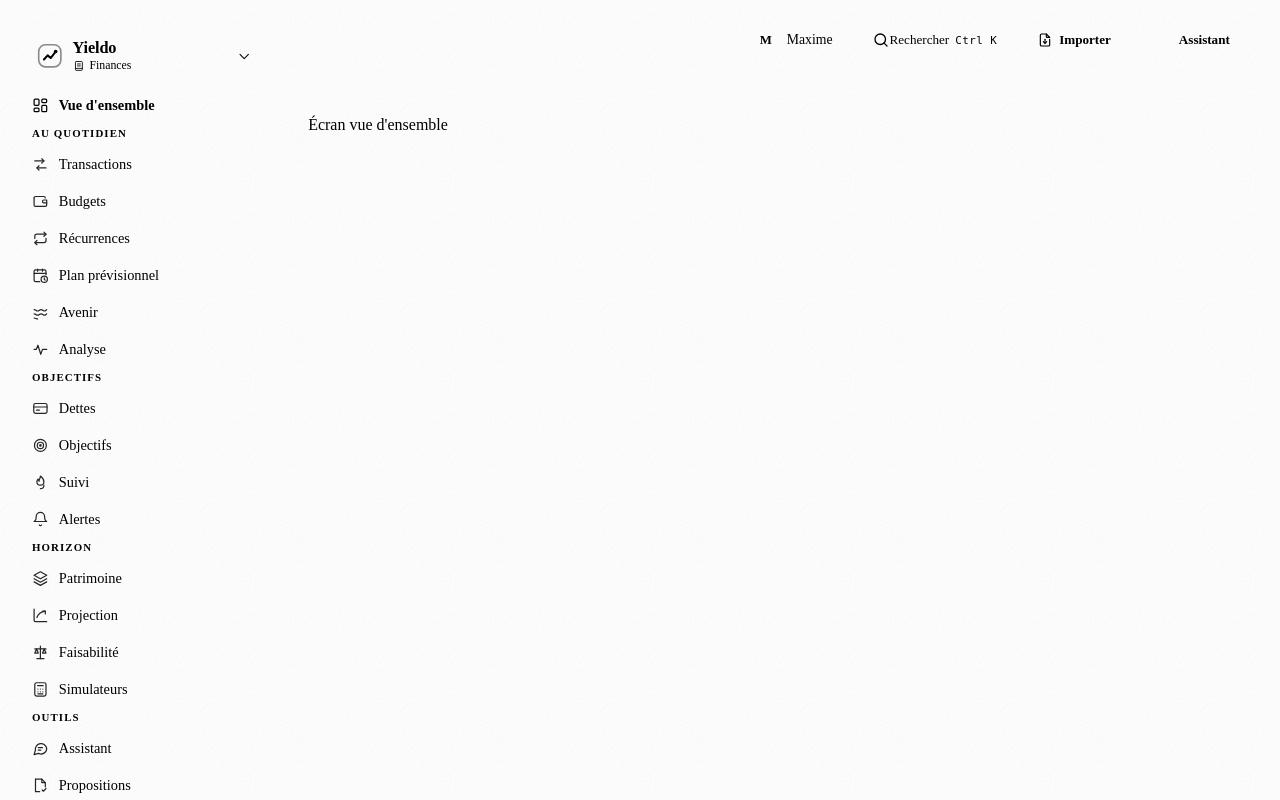
AppShell › routes the Avenir nav entry to the forecast screen
The width and height of the screenshot is (1280, 800).
Click the link "Avenir" at (65, 312), box [32, 304, 98, 321]
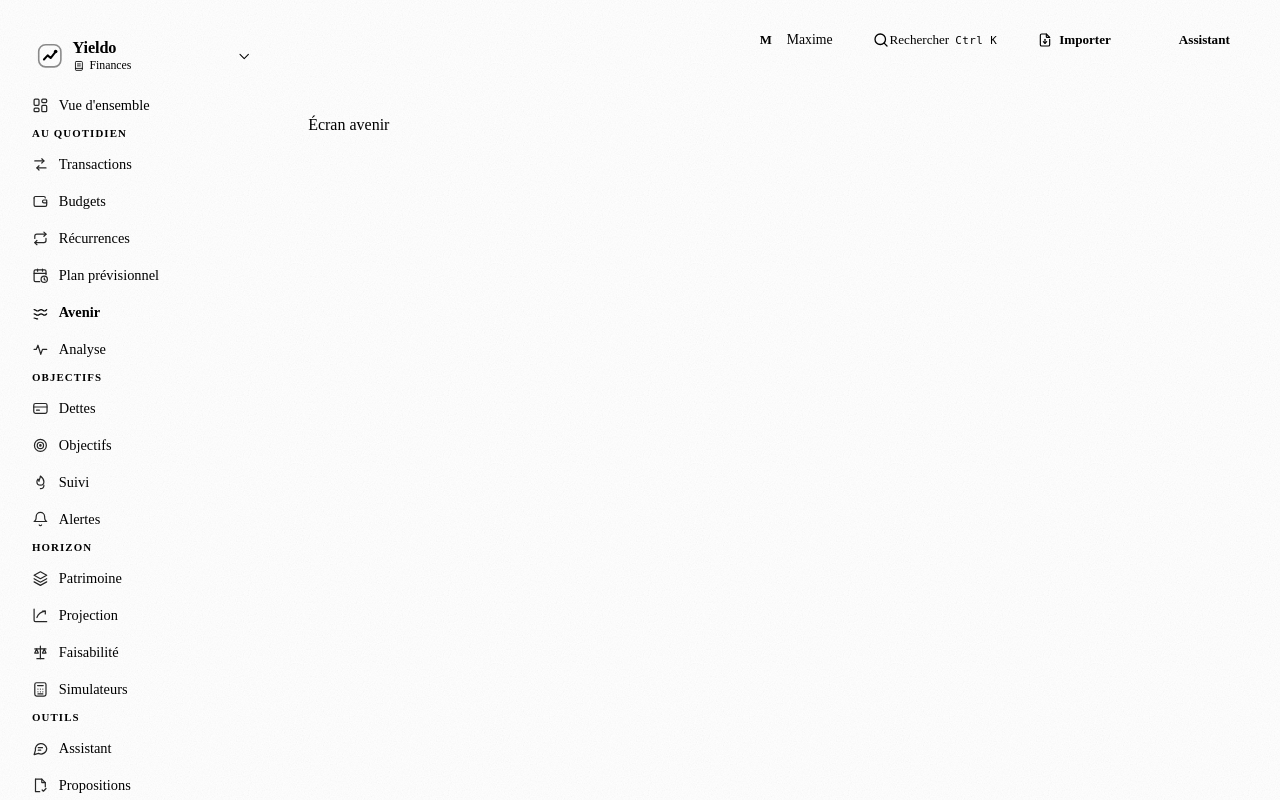
Expected: the element showing "Écran avenir" is shown, [308, 116, 390, 133]
